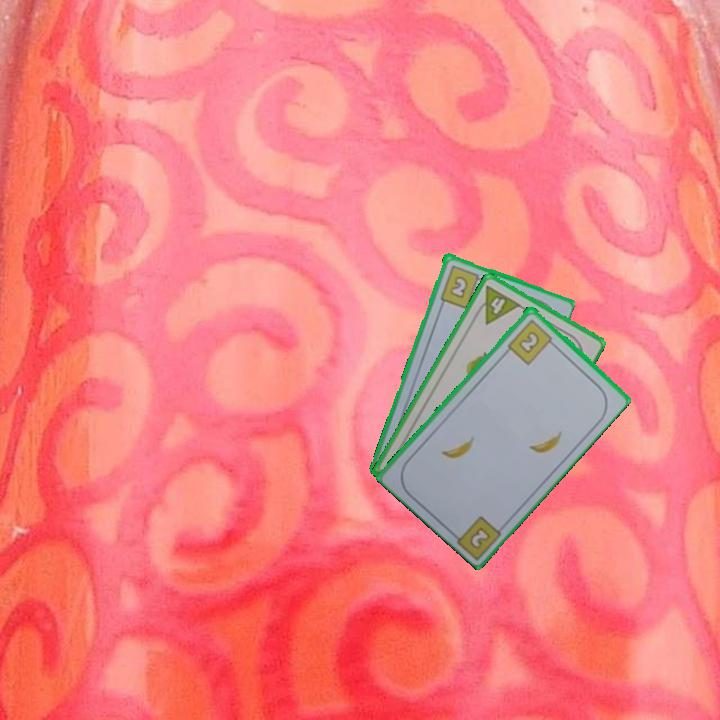2b: (504, 315, 558, 367), (436, 261, 487, 311), (466, 523, 493, 552)
4p: (470, 281, 523, 327)
